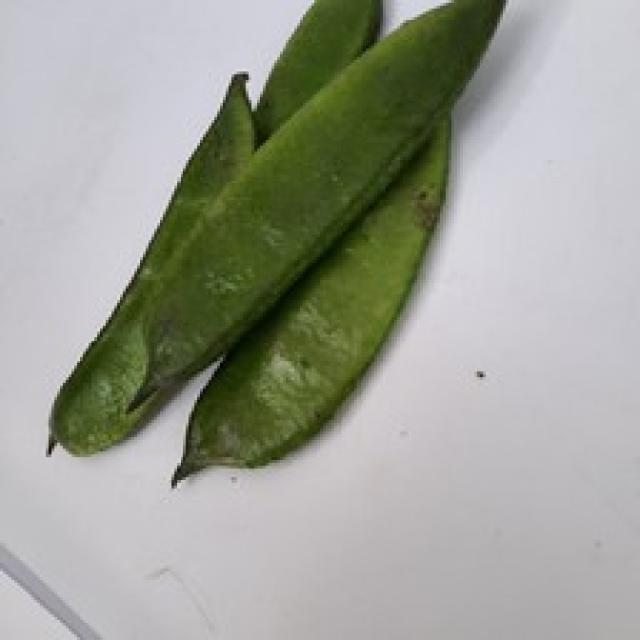Bean: (46, 0, 511, 463), (166, 108, 451, 486), (46, 69, 254, 457)
